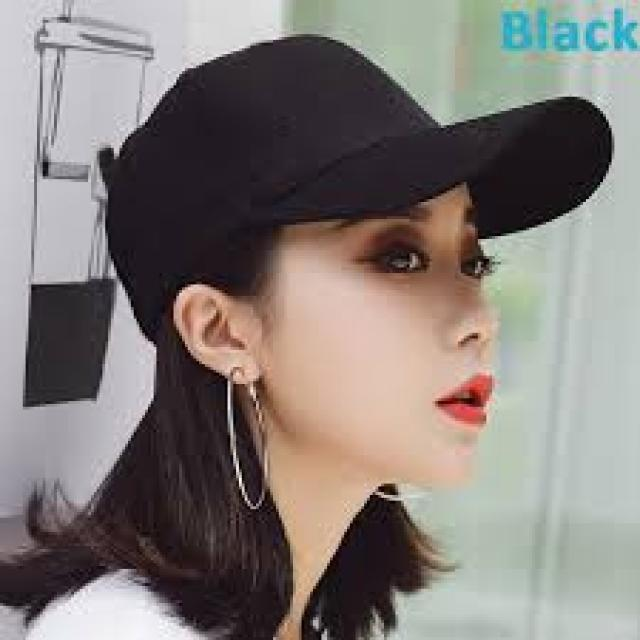cap: (98, 19, 624, 322)
